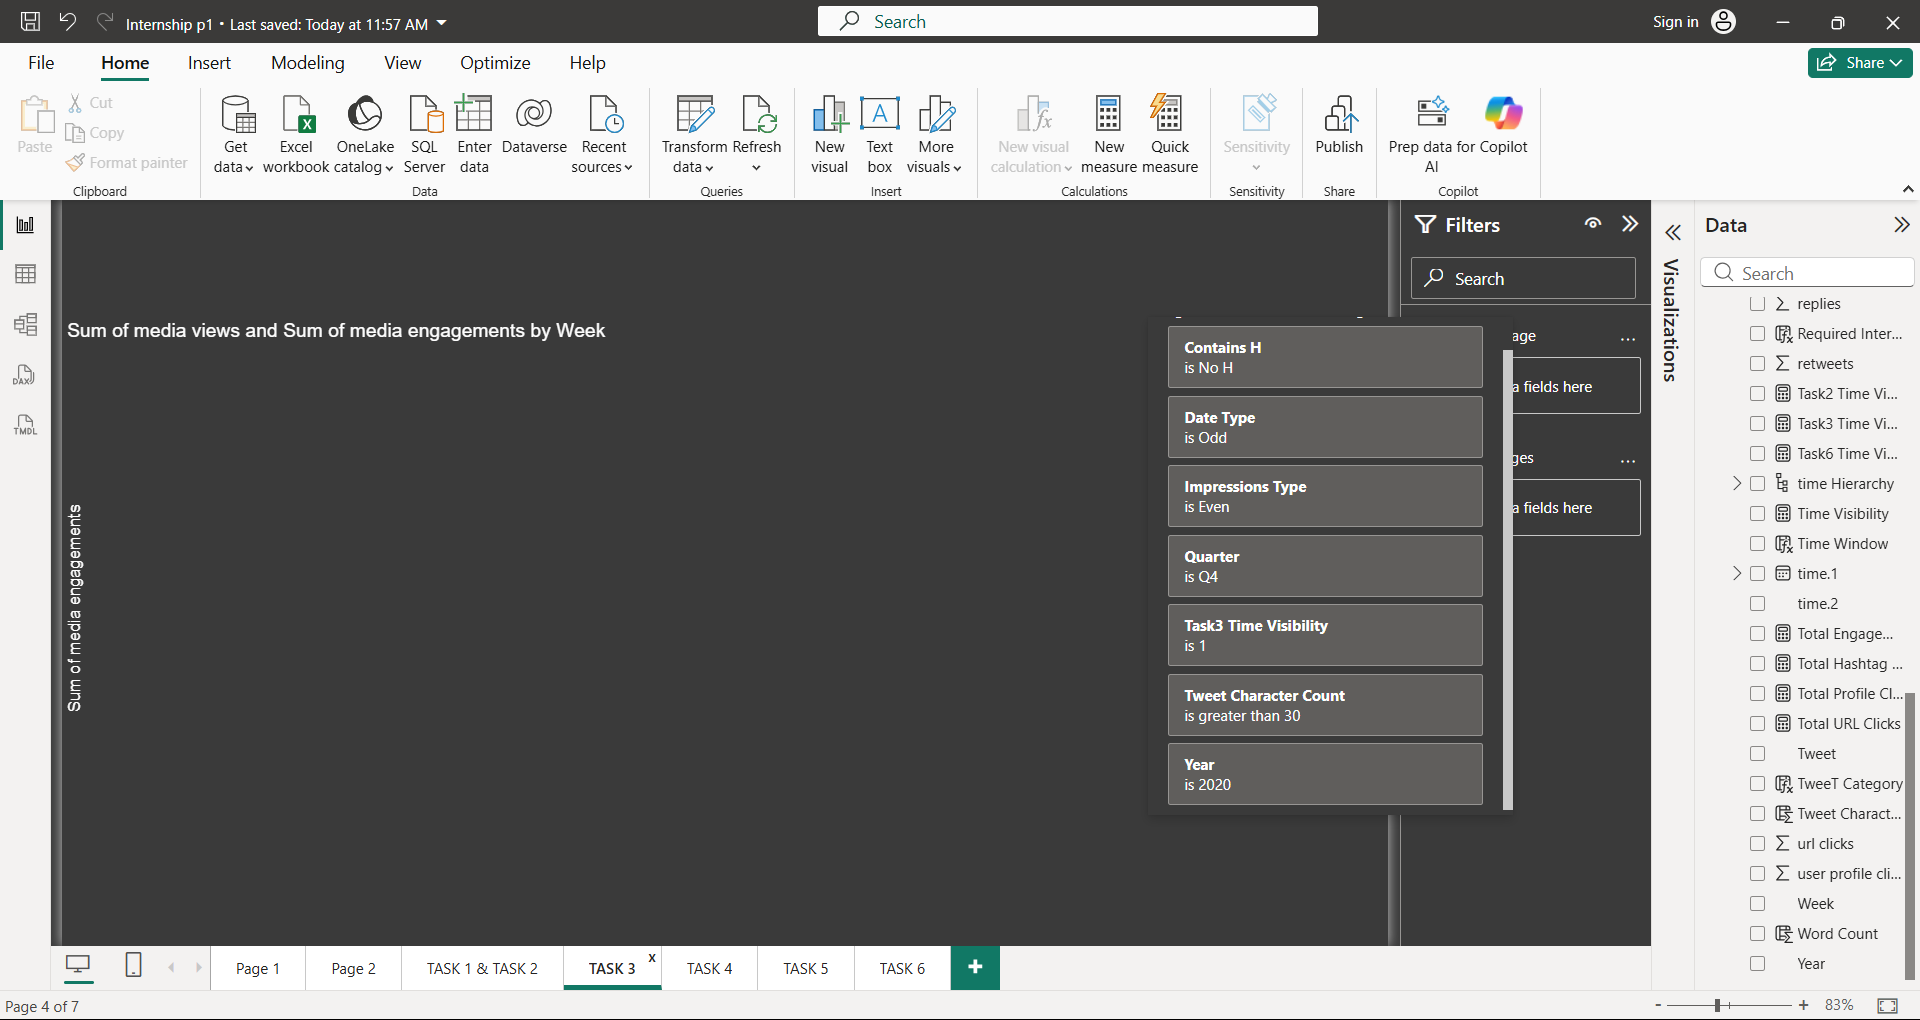

This screenshot's page, from the dashboard's own definition file:
{"tool":"powerbi","page":{"name":"TASK 3","canvas":[1280,720],"ordinal":3},"visuals":[{"type":"lineClusteredColumnComboChart","fields":{"Category":["SocialMedia (1).Week"],"Y":["Sum(SocialMedia (1).media views)"],"Y2":["Sum(SocialMedia (1).media engagements)"]},"box":[0,115.8,1148.5,528.4],"z":0}]}

Visuals, with their boxes on the page's 1280x720 design canvas (x1, y1, x2, y2). These are canvas units, not pixel positions in the 1920x1020 screenshot, which may show the page scaled, cropped or inside an application window:
lineClusteredColumnComboChart - SocialMedia (1).Week x Sum(SocialMedia (1).media views): bbox=(0, 116, 1148, 644)
